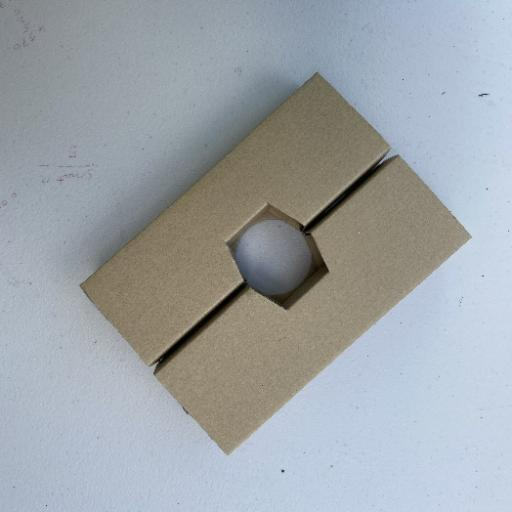Cardboard: (77, 70, 473, 456)
